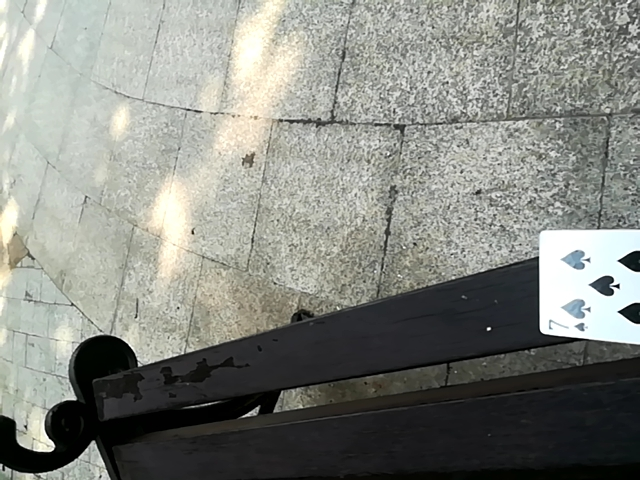ht 7: (529, 221, 640, 351)
